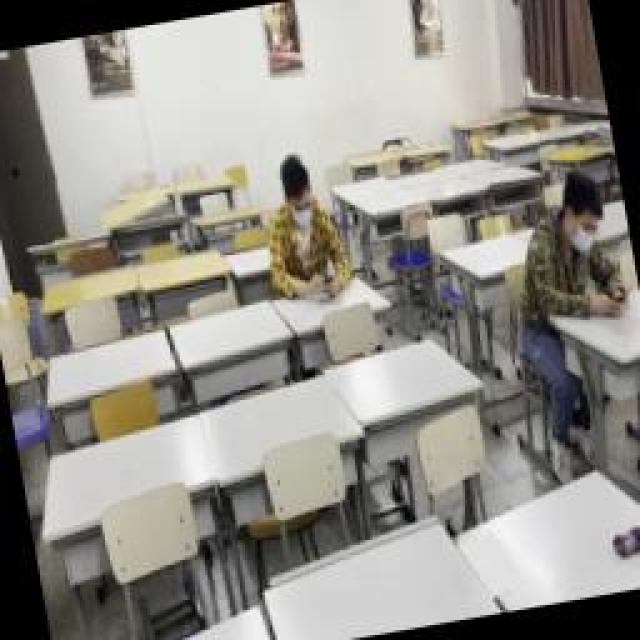phone: (530, 165, 635, 327), (253, 150, 355, 302)
